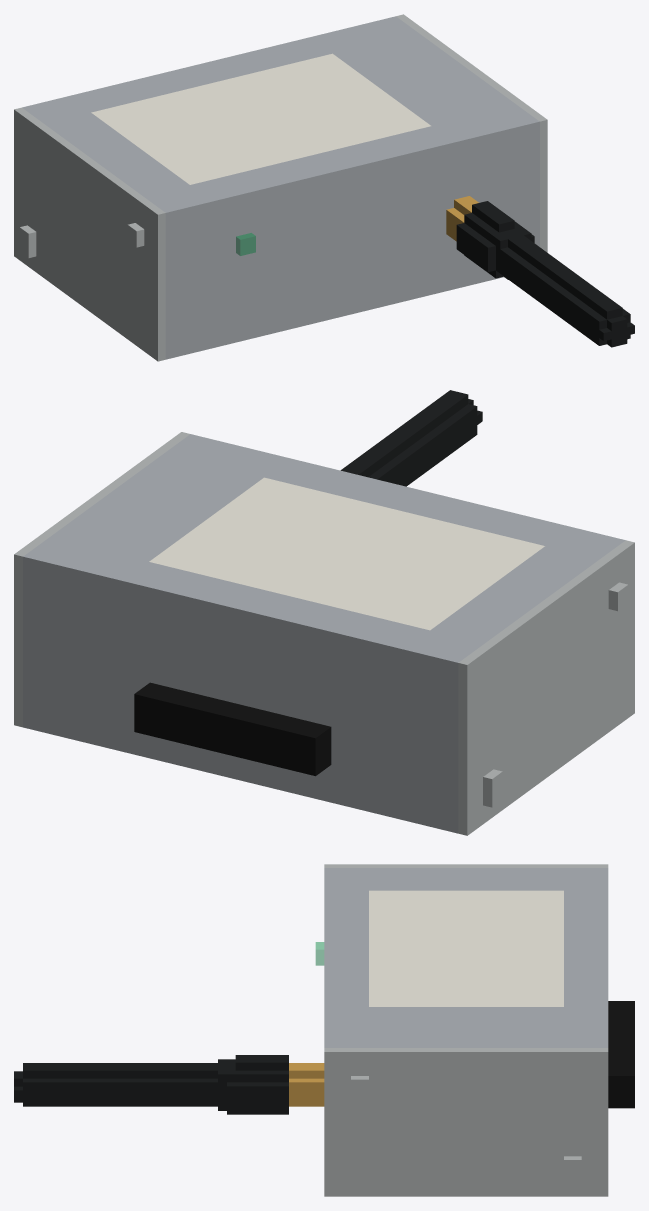
The model's file is receiver.glb.
The picture shows the model from 3 angles, top to bottom: view 1: azimuth 30°, elevation 25°; view 2: azimuth 150°, elevation 25°; view 3: azimuth 270°, elevation 25°; orthographic projection. The views are drawn at different scales.
Visible parts, largest first — view 1: receiver:compound; view 2: receiver:compound; view 3: receiver:compound.
Boxes of the visible parts, bbox=[...] form: receiver:compound: bbox=[14, 14, 634, 361]; receiver:compound: bbox=[14, 390, 634, 835]; receiver:compound: bbox=[14, 864, 634, 1196].
Size of the model in its own units: 0.104 by 0.036 by 0.14.
